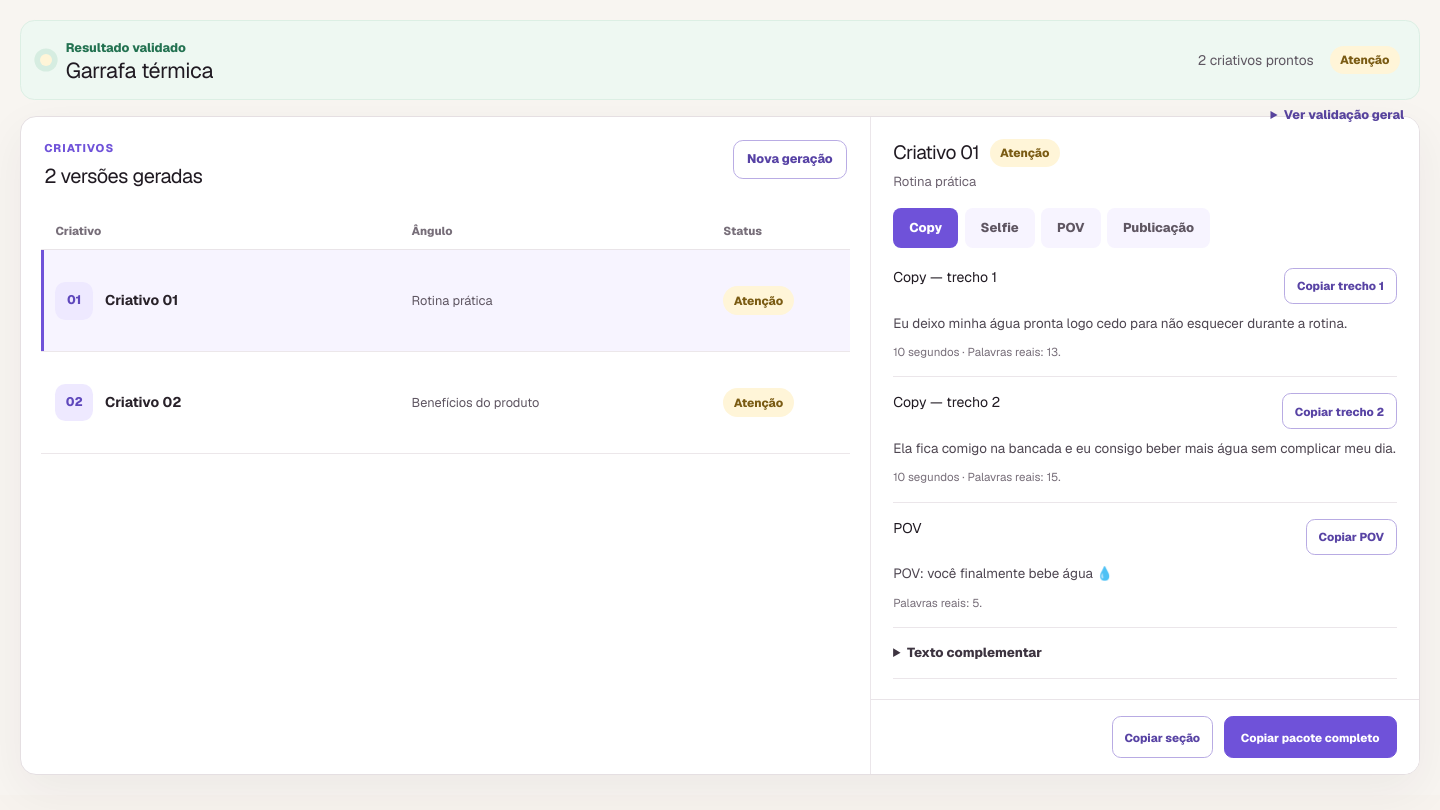
Test case: ResultPage › shows one selected creative at a time
Expected: the heading "Criativo 01" is shown, [893,139,979,167]
Click the button with aria-label "Selecionar Criativo 02": coordinates (445, 402) [41,352,850,453]
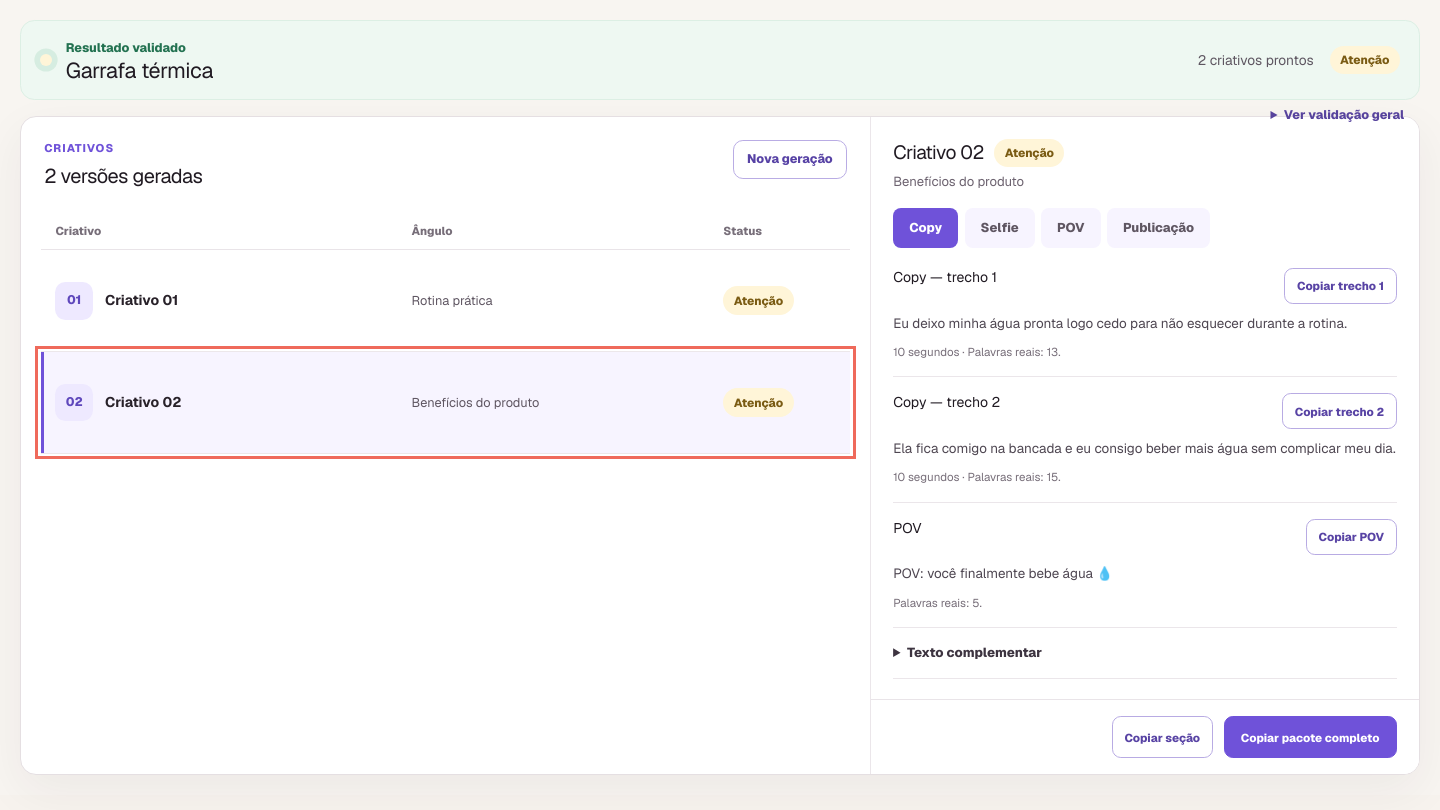
Expected: the heading "Criativo 02" is shown, [893,139,984,167]
Expected: the 1st text "Benefícios do produto" is shown, [893,173,1024,190]
